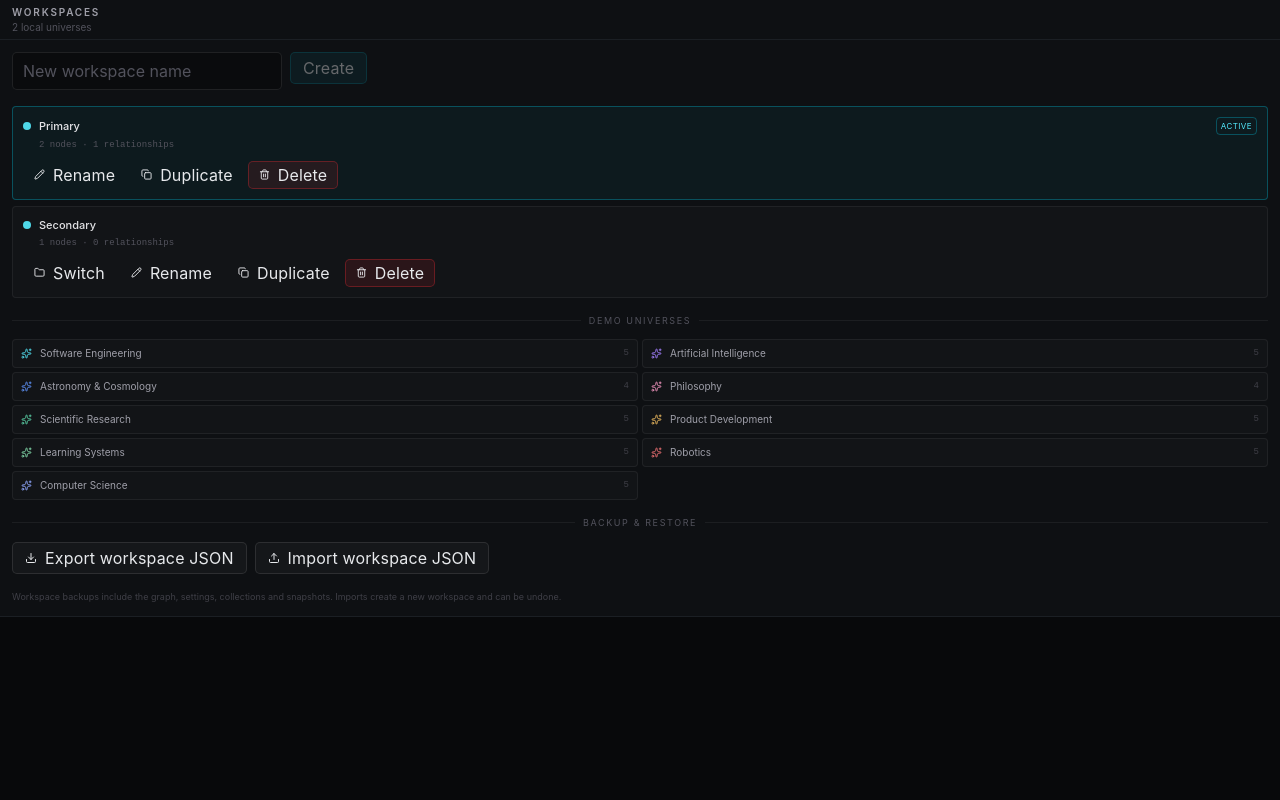
Test case: WorkspacePanel › duplicates a workspace and activates the copy
Click the button "Duplicate" below "Primary". click: (187, 174)
box: [130,160,244,188]
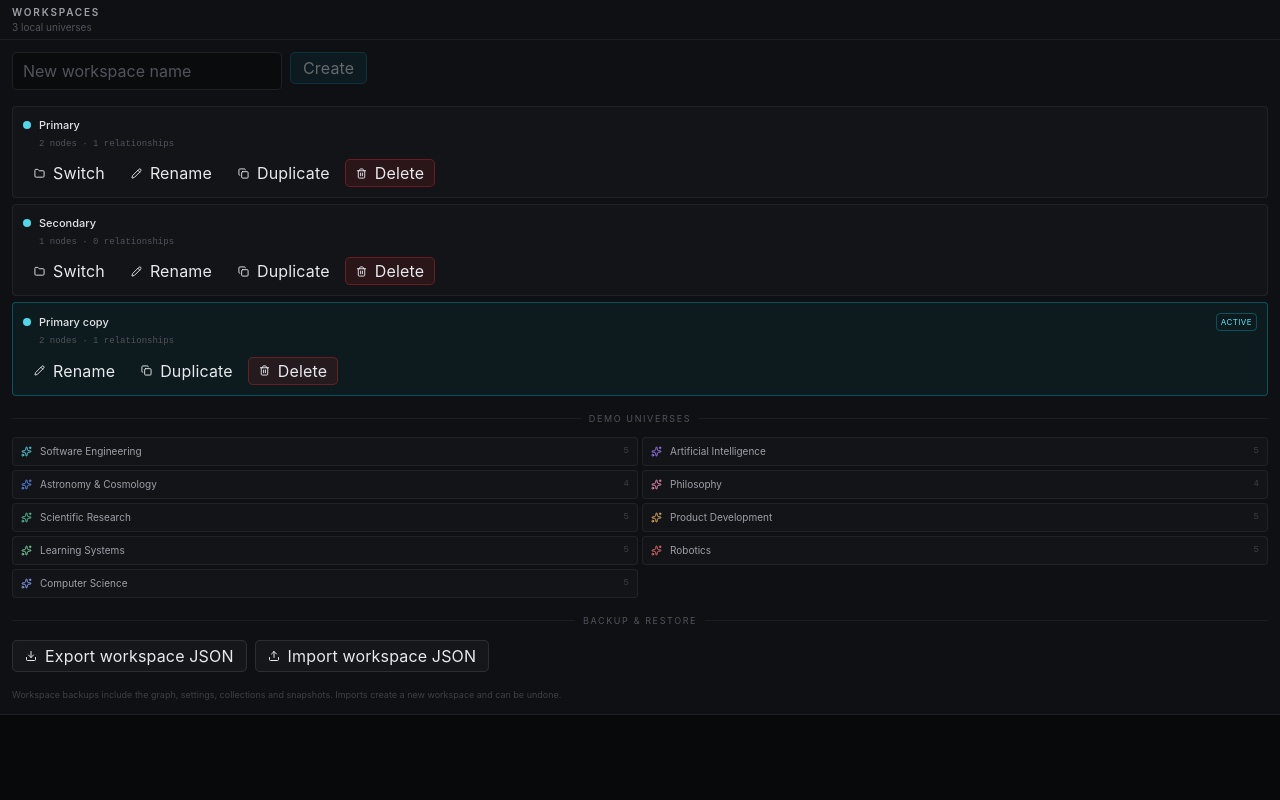
Check: the text "Primary copy" is shown, box [39,315,109,329]
